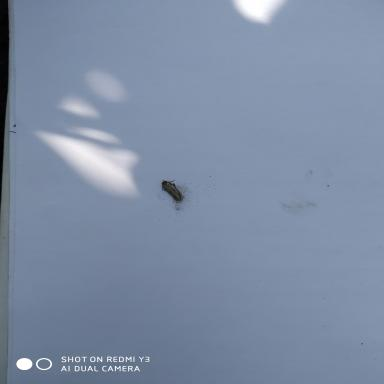pbw: (160, 174, 185, 205)
